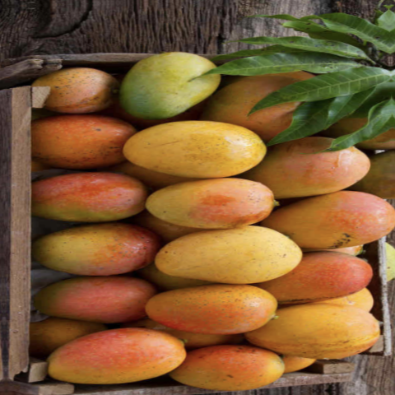mango: (141, 219, 311, 293), (225, 295, 382, 373), (117, 114, 278, 184), (45, 321, 201, 390), (259, 182, 395, 254), (143, 279, 284, 348), (5, 170, 167, 230), (106, 43, 223, 117), (151, 170, 287, 232), (40, 267, 171, 326), (156, 340, 288, 395)
